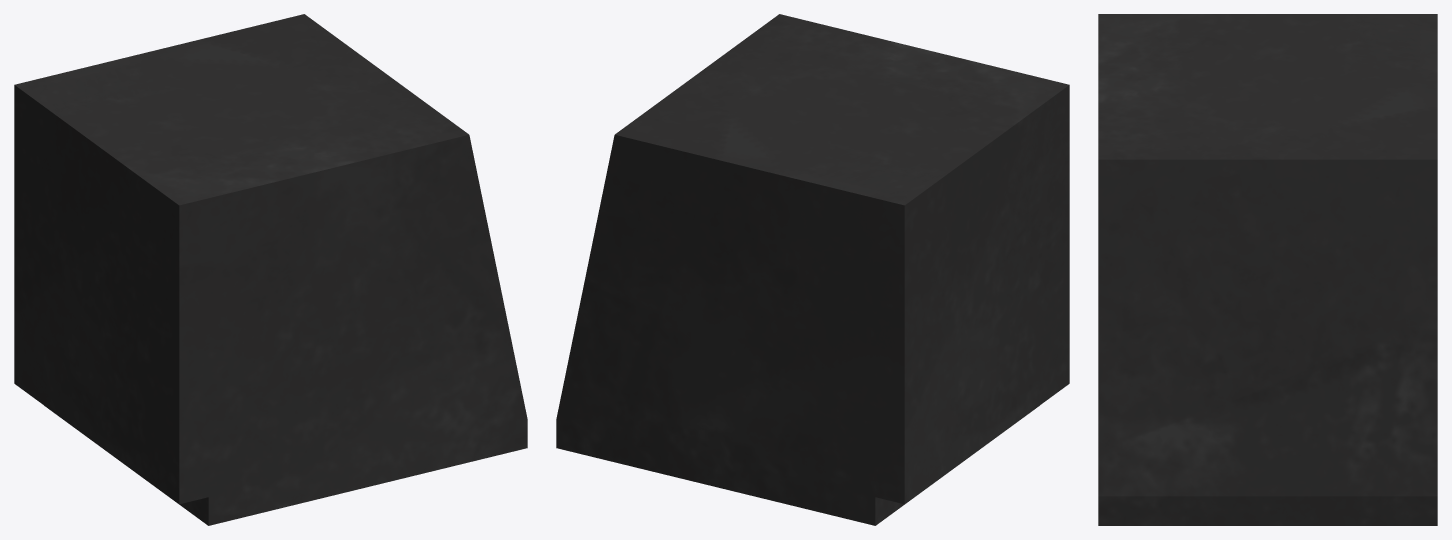
Rendered from smoke01.fbx.
The picture shows the model from 3 angles, left to right: view 1: azimuth 30°, elevation 25°; view 2: azimuth 150°, elevation 25°; view 3: azimuth 270°, elevation 25°; orthographic projection. The views are drawn at different scales.
Parts seen in each view (by area): view 1: Cube.052; view 2: Cube.052; view 3: Cube.052.
Boxes of the visible parts, x1,y1,x2,y2 form: Cube.052: [14, 14, 527, 525]; Cube.052: [556, 14, 1069, 525]; Cube.052: [1098, 14, 1437, 525].
Bounding box in the file's own units: 14.58 × 13.11 × 11.95.
Materials: 1 (1 with a texture image).
